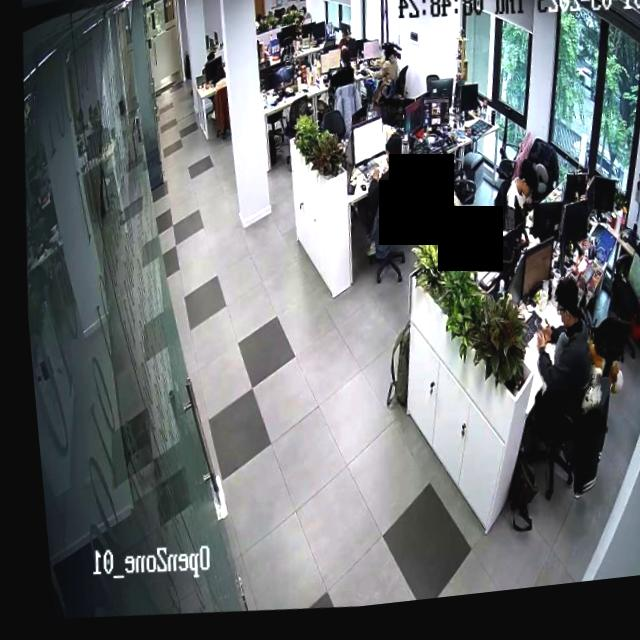person: (514, 284, 603, 458), (355, 138, 418, 251), (493, 169, 539, 244), (366, 49, 402, 117), (323, 55, 356, 107), (334, 27, 356, 76)
